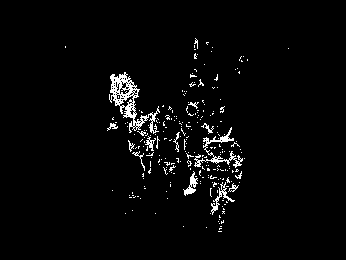person: (205, 122, 243, 232), (181, 102, 205, 196), (154, 105, 180, 175), (128, 112, 154, 180), (109, 72, 141, 120)
